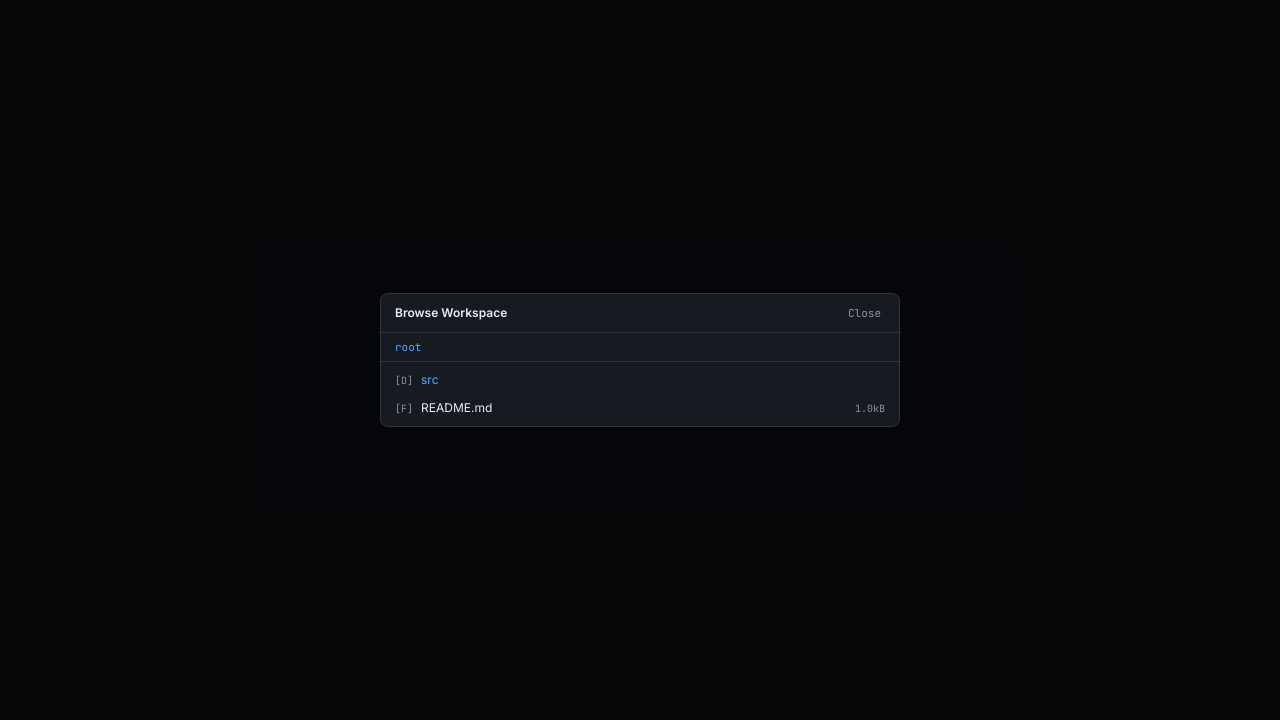
Scenario: WorkspaceFilePicker › navigates into a directory on click
Step 1. Click the text "src" → (430, 380), box x1=421 y1=372 x2=438 y2=387
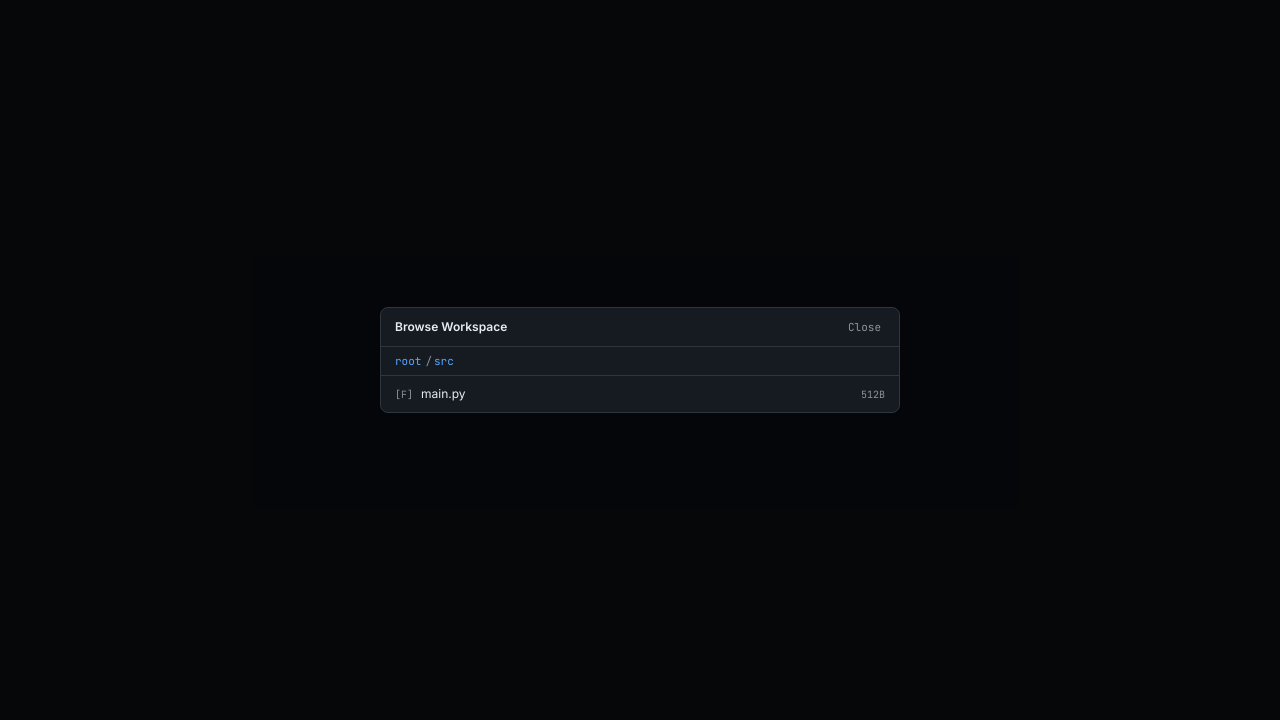
Now the text "main.py" is shown, box x1=421 y1=386 x2=466 y2=401
